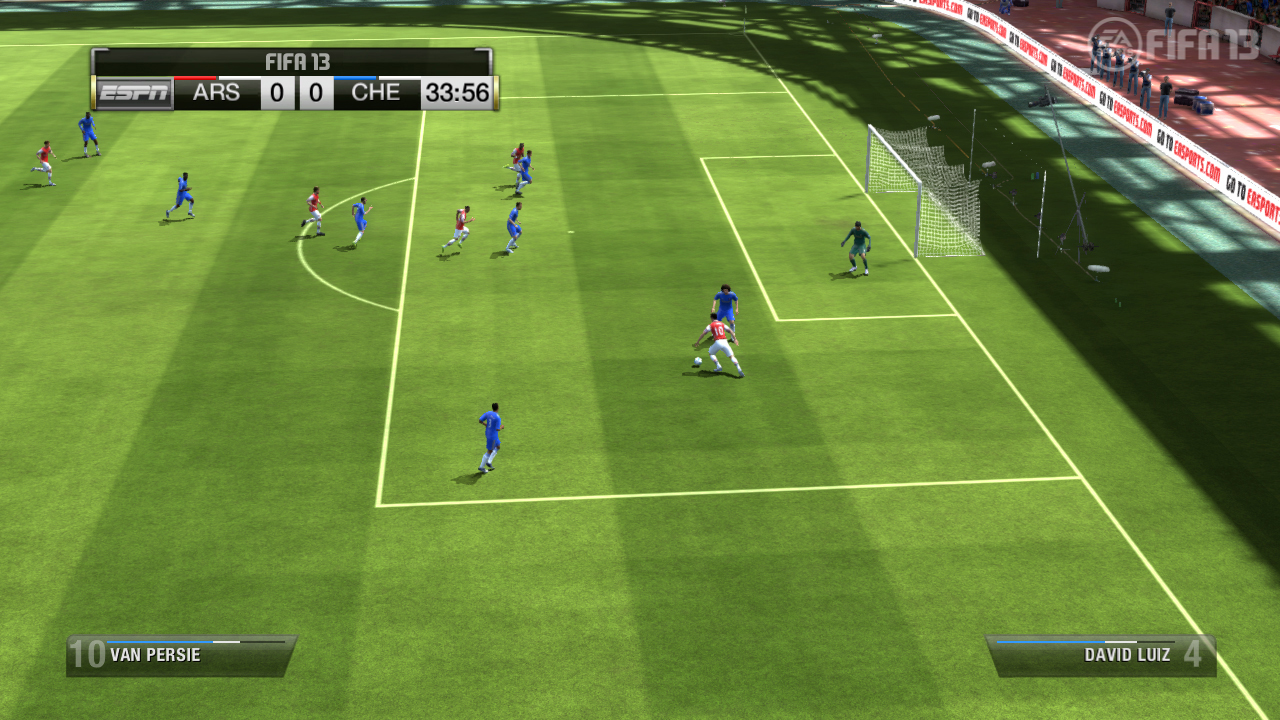ball: (687, 349, 704, 373)
goal: (857, 120, 1046, 256)
player: (692, 313, 746, 371), (474, 401, 506, 480), (708, 281, 741, 346), (844, 220, 877, 279), (299, 181, 327, 233), (168, 173, 200, 218), (77, 112, 104, 155), (503, 199, 525, 251), (351, 195, 371, 250), (446, 207, 467, 255), (34, 139, 55, 184), (511, 142, 524, 189), (521, 151, 532, 191)
